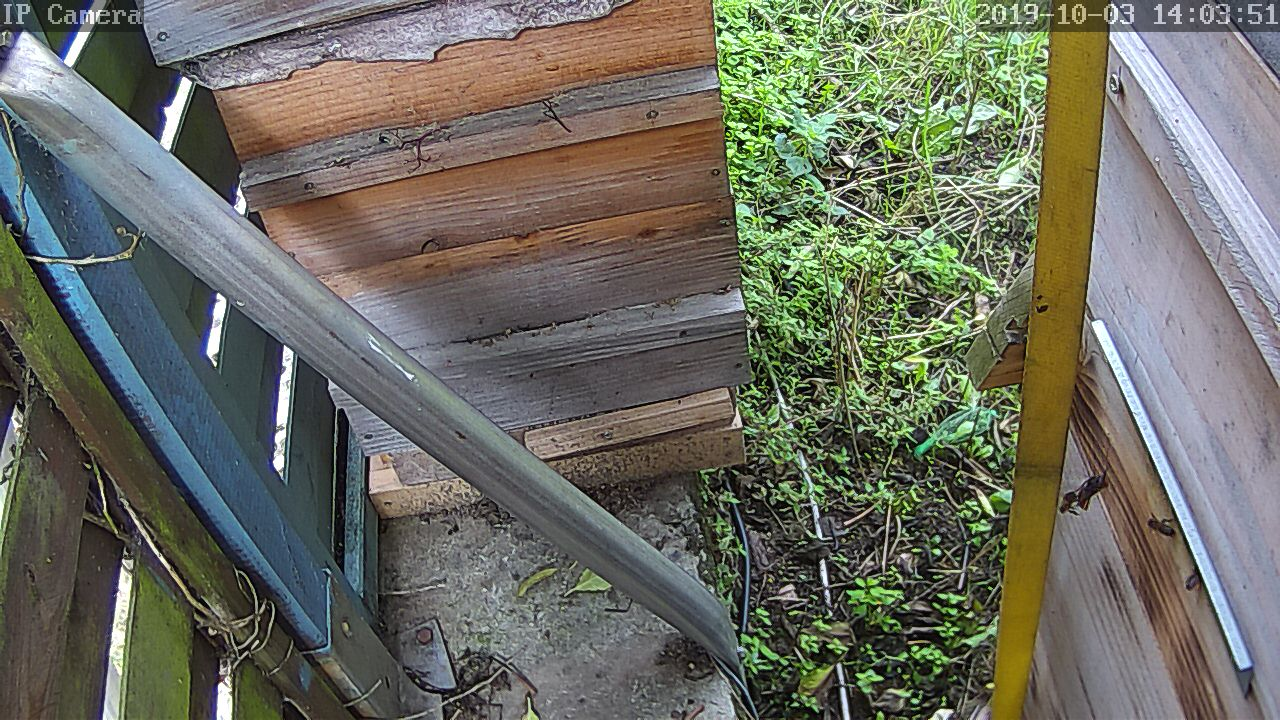bee: (1066, 464, 1109, 510), (1121, 502, 1165, 536), (1145, 505, 1183, 540), (1169, 562, 1202, 599)
